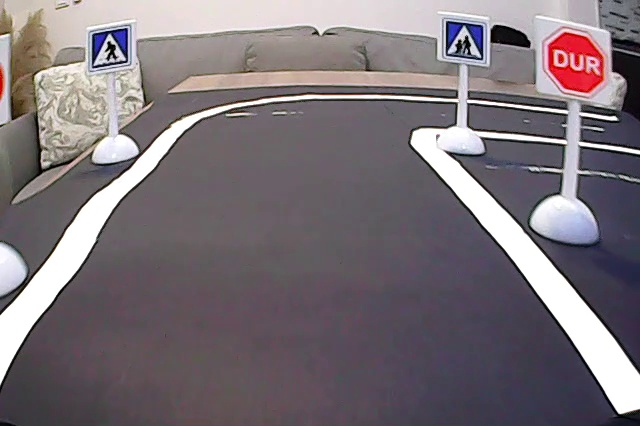pedestrian crossing: (88, 26, 134, 74)
school crossing: (442, 16, 487, 62)
stop sign: (542, 26, 609, 102)
